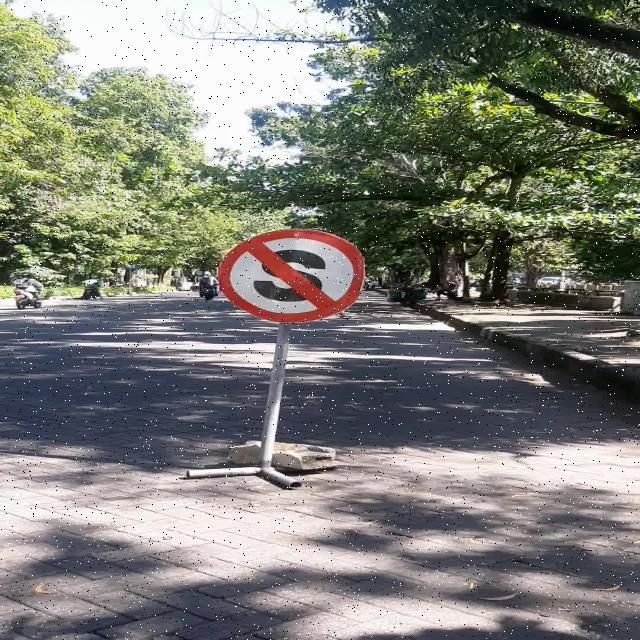Dilarang Berhenti: (218, 229, 364, 323)
